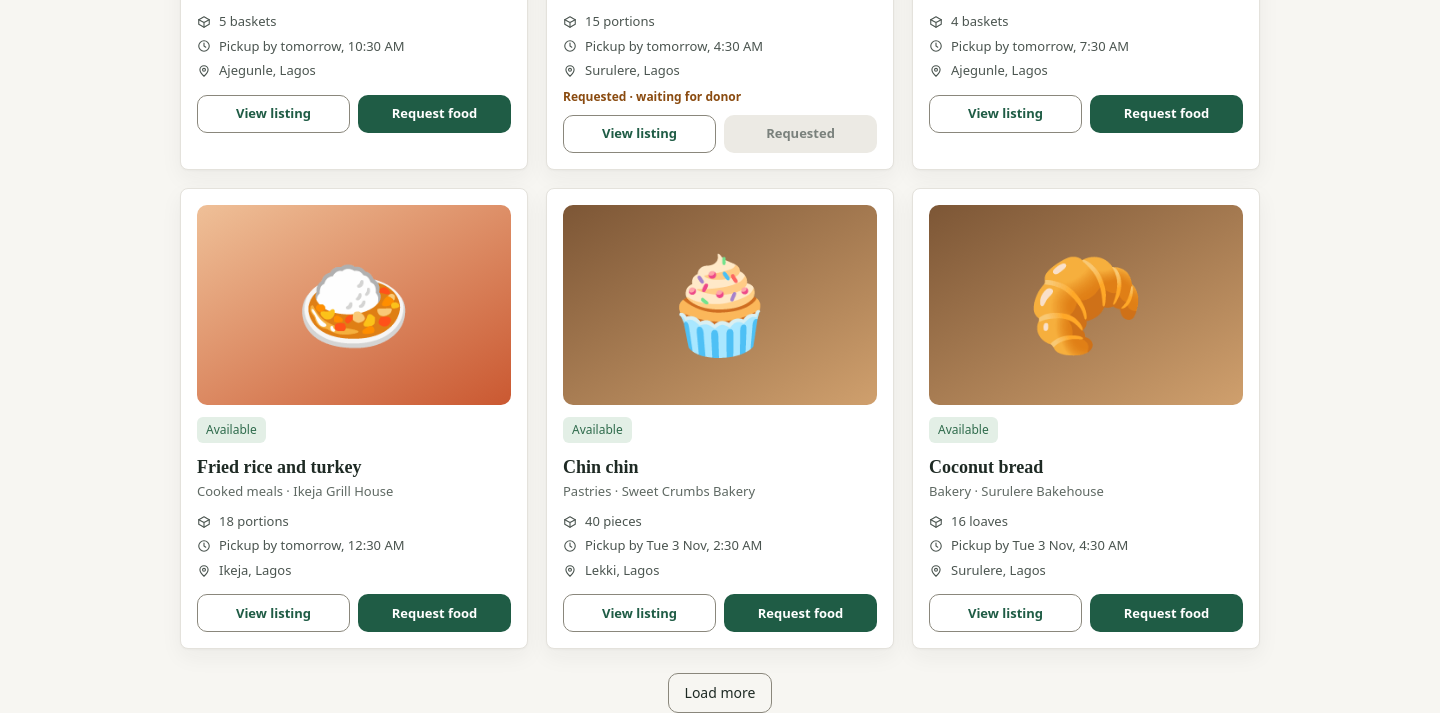
Test: Find food: states › loads 12 more with Load more and moves focus to the first new card
(page scrolled)
What coordinates should you click on to do the following:
click the button "Load more"
I would click on:
 (720, 693)
Its box is [668,673,772,712].
(page scrolled)
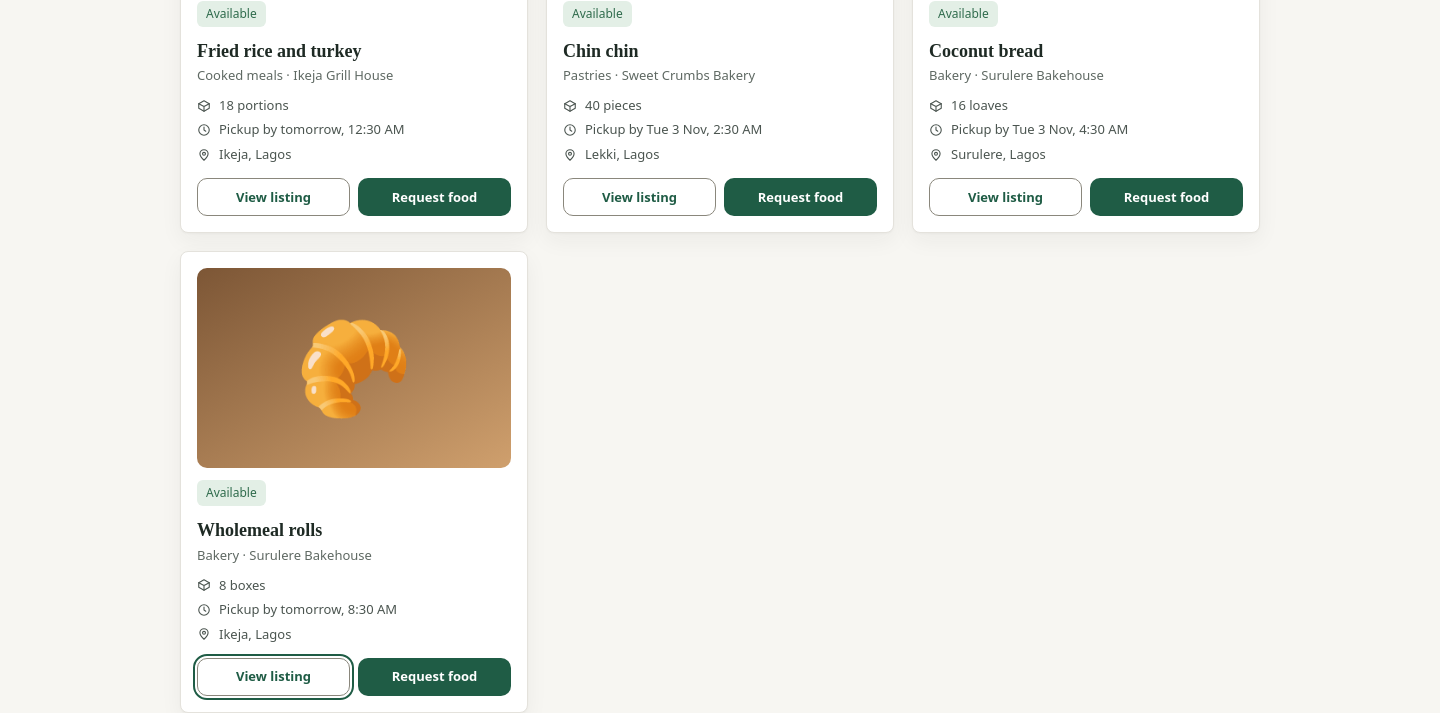
Check: the button "Load more" is gone
